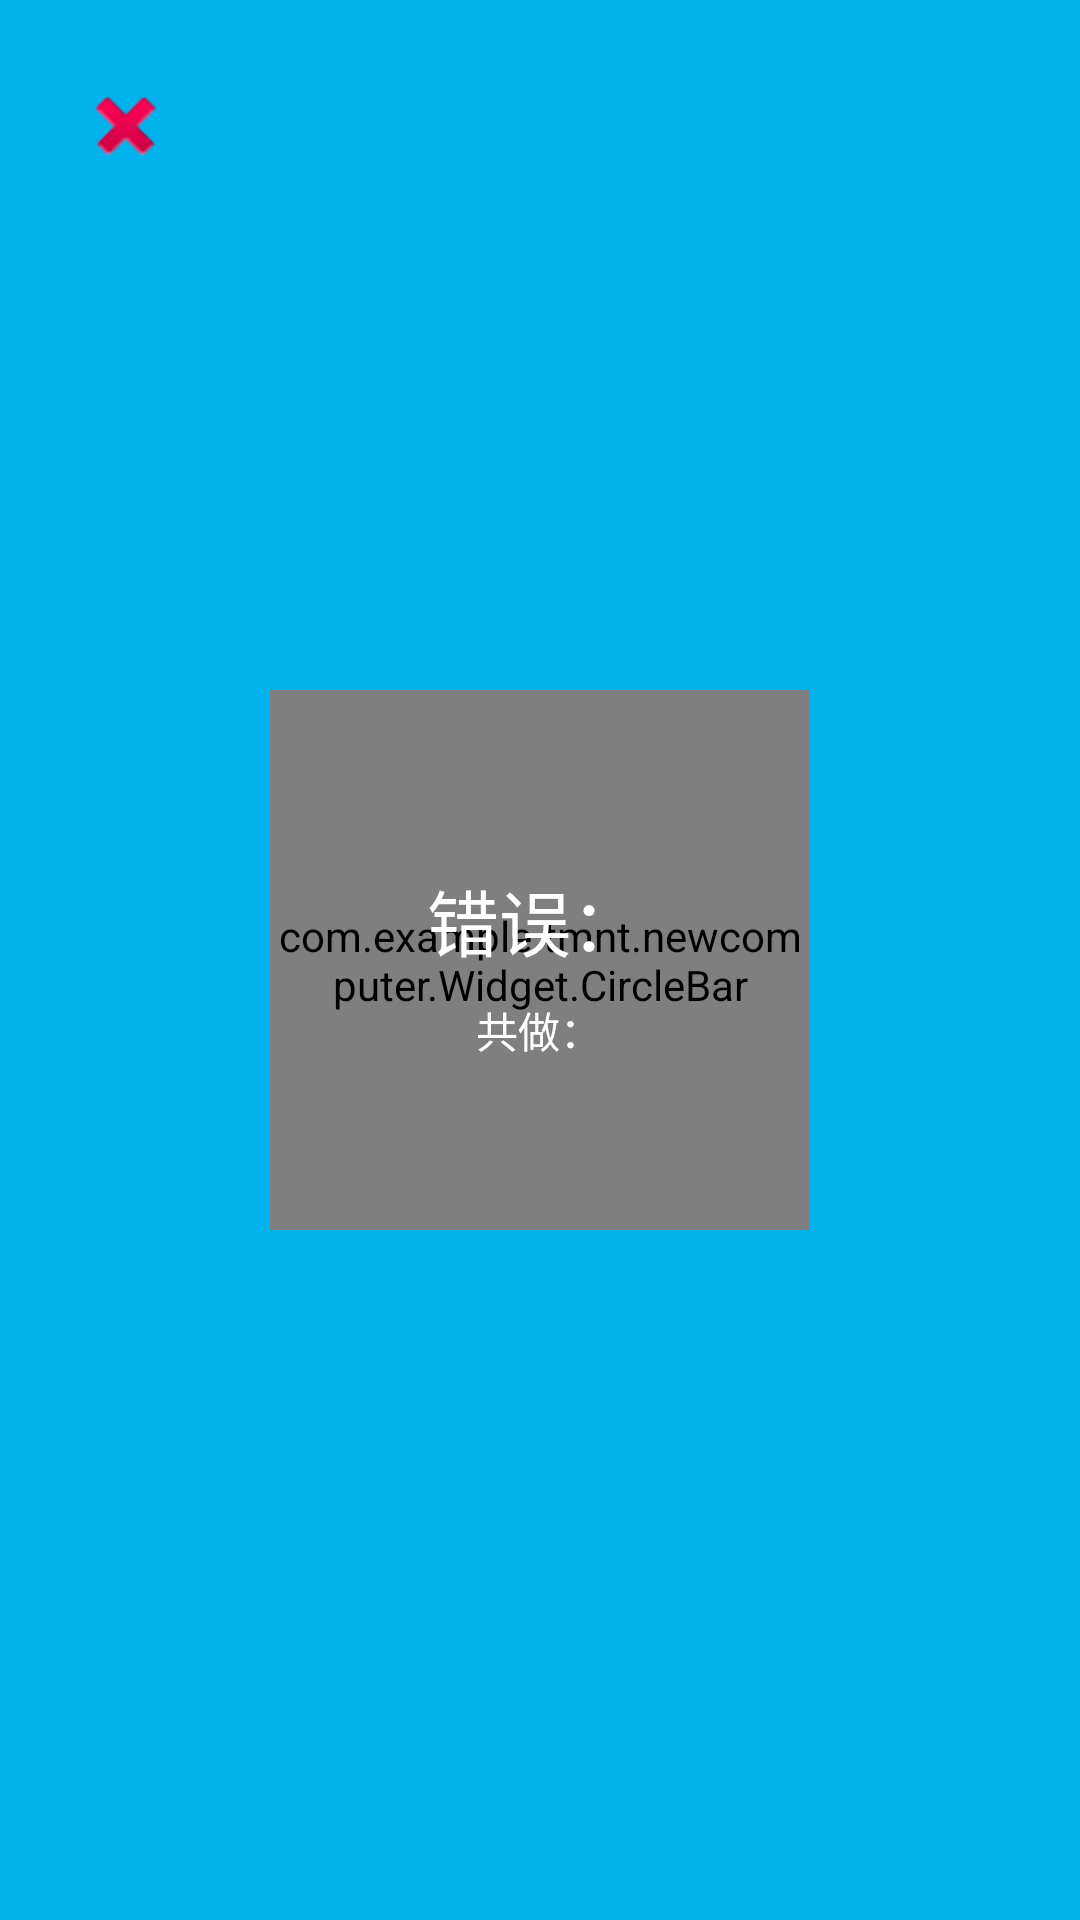

Icons on this 1080x1920 Android screen, each with its box as (x1, y1, x2, y2):
delete: (95, 97, 157, 156)
